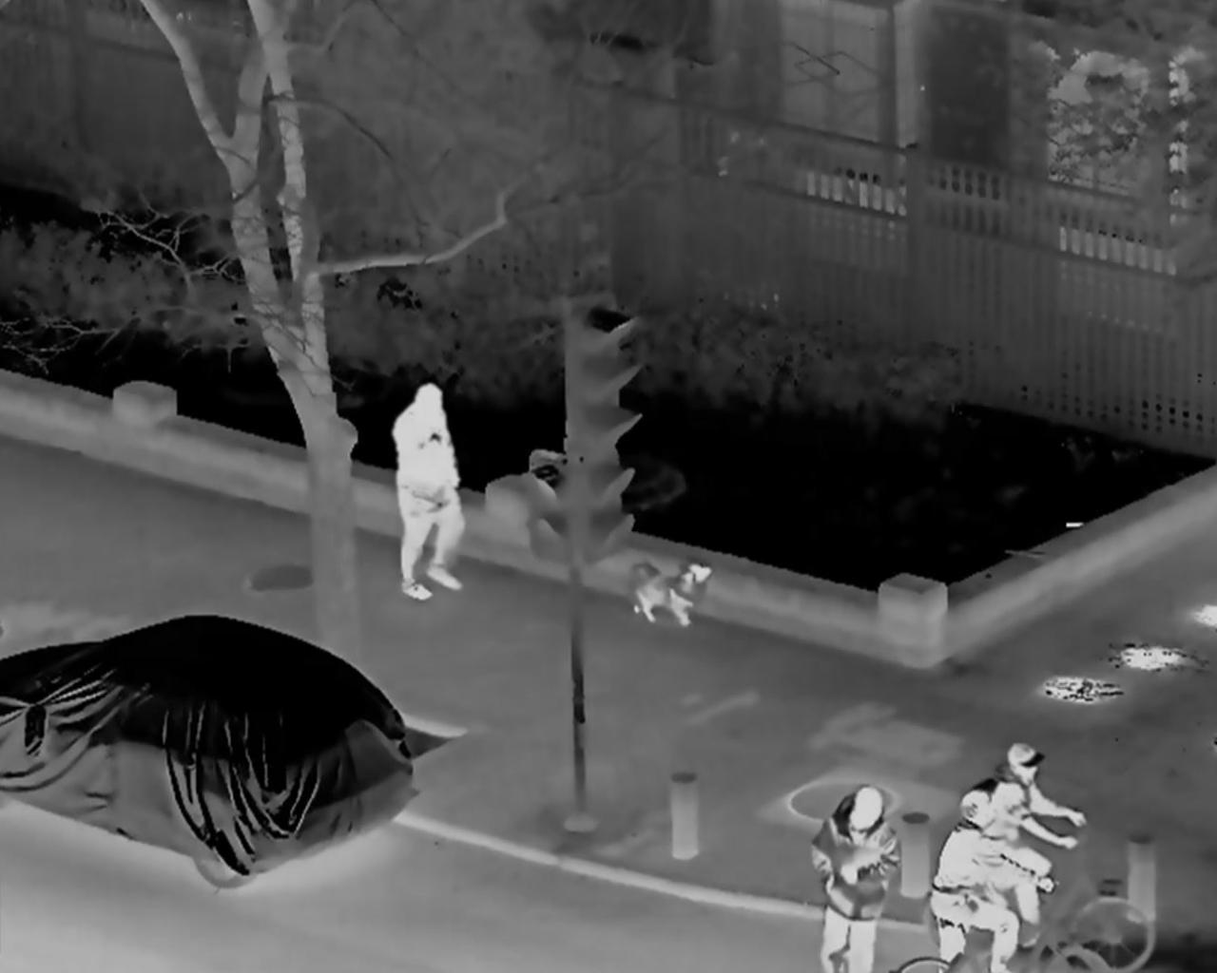person: (926, 798, 1053, 966), (971, 744, 1087, 920), (390, 383, 469, 608), (814, 786, 892, 973)
